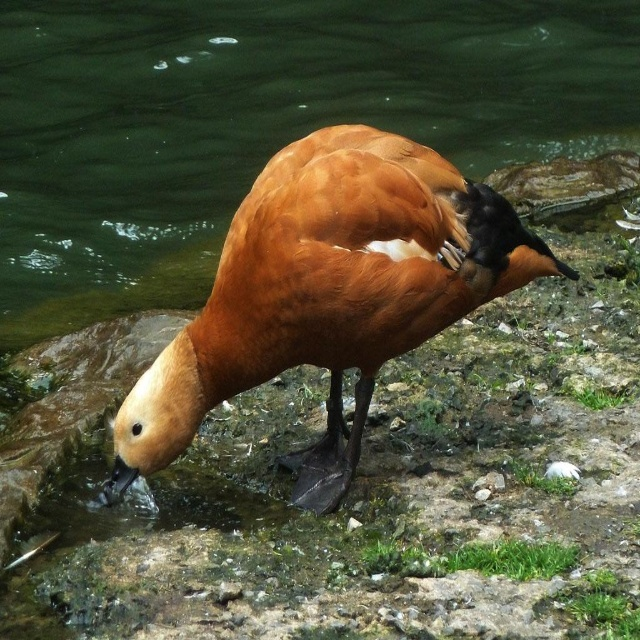Duck: (95, 103, 561, 498)
